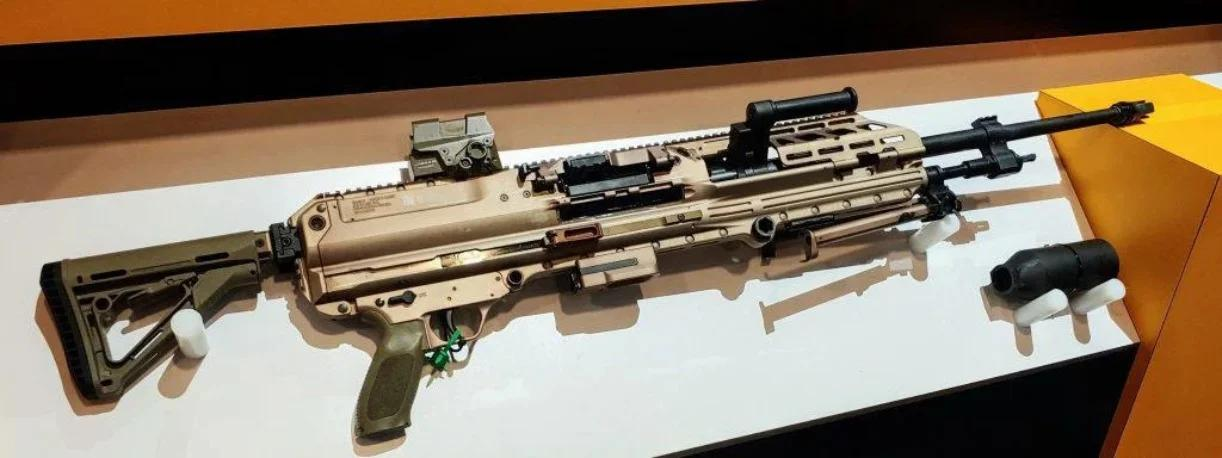larga: (39, 86, 1156, 446)
